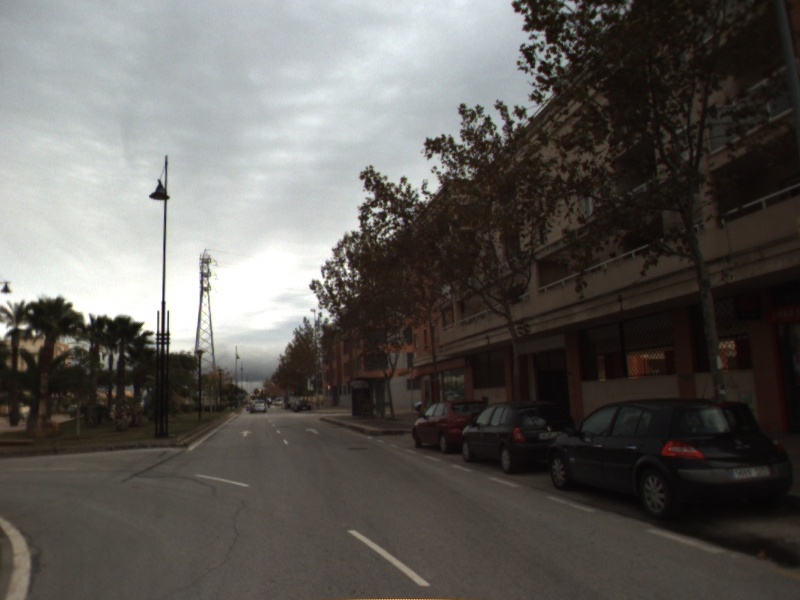STRAIGHT: (303, 425, 322, 436), (238, 428, 254, 439)
